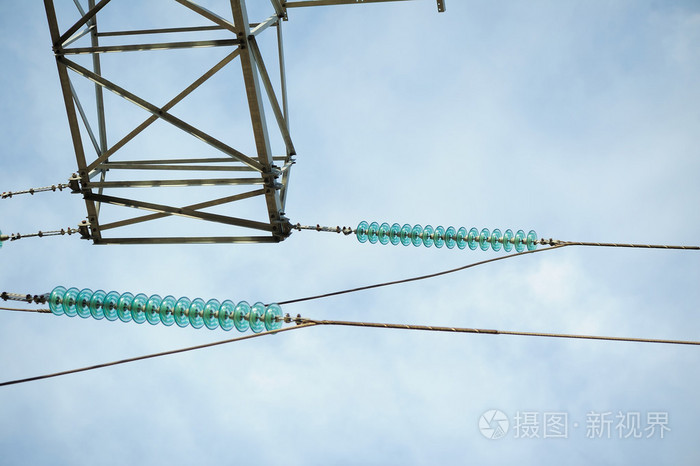insulator: (48, 285, 282, 336), (353, 219, 542, 255)
